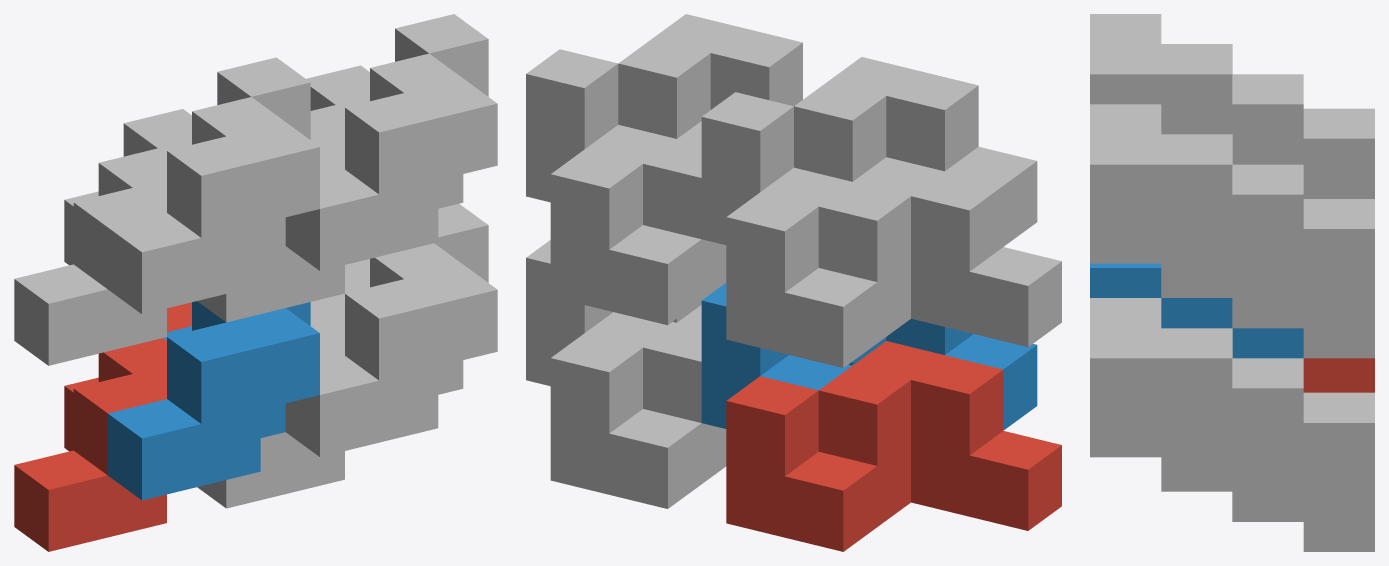
Rendered from tiling.obj.
3 renders of one model, left to right at view 1: azimuth 30°, elevation 25°; view 2: azimuth 150°, elevation 25°; view 3: azimuth 270°, elevation 25°, orthographic. The views are drawn at different scales.
Parts seen in each view (by area): view 1: copy_1_domain_4, copy_1_domain_8, copy_1_domain_6, copy_1_domain_2, copy_1_domain_3, copy_1_domain_1, copy_1_domain_7, copy_1_domain_5; view 2: copy_1_domain_1, copy_1_domain_3, copy_1_domain_4, copy_1_domain_8, copy_1_domain_5, copy_1_domain_7, copy_1_domain_2, copy_1_domain_6; view 3: copy_1_domain_6, copy_1_domain_8, copy_1_domain_4, copy_1_domain_7, copy_1_domain_5, copy_1_domain_2, copy_1_domain_3, copy_1_domain_1.
Part boxes in pixels (box(x1,y1,x2,y2)): copy_1_domain_4: box(107, 57, 319, 314); copy_1_domain_8: box(285, 14, 497, 270); copy_1_domain_6: box(285, 204, 497, 456); copy_1_domain_2: box(107, 301, 319, 500); copy_1_domain_3: box(14, 109, 191, 365); copy_1_domain_1: box(14, 302, 191, 551); copy_1_domain_7: box(197, 65, 369, 322); copy_1_domain_5: box(197, 259, 369, 508); copy_1_domain_1: box(726, 341, 1061, 551); copy_1_domain_3: box(726, 157, 1061, 367); copy_1_domain_4: box(701, 57, 1037, 246); copy_1_domain_8: box(526, 14, 802, 202); copy_1_domain_5: box(550, 305, 726, 508); copy_1_domain_7: box(550, 121, 726, 325); copy_1_domain_2: box(701, 283, 1037, 430); copy_1_domain_6: box(526, 240, 701, 386); copy_1_domain_6: box(1090, 298, 1303, 517); copy_1_domain_8: box(1090, 104, 1303, 323); copy_1_domain_4: box(1090, 14, 1303, 164); copy_1_domain_7: box(1161, 199, 1374, 358); copy_1_domain_5: box(1161, 392, 1374, 551); copy_1_domain_2: box(1090, 263, 1303, 358); copy_1_domain_3: box(1303, 108, 1374, 198); copy_1_domain_1: box(1303, 358, 1374, 392).
Bounding box in the file's own units: 8 × 6 × 4.
